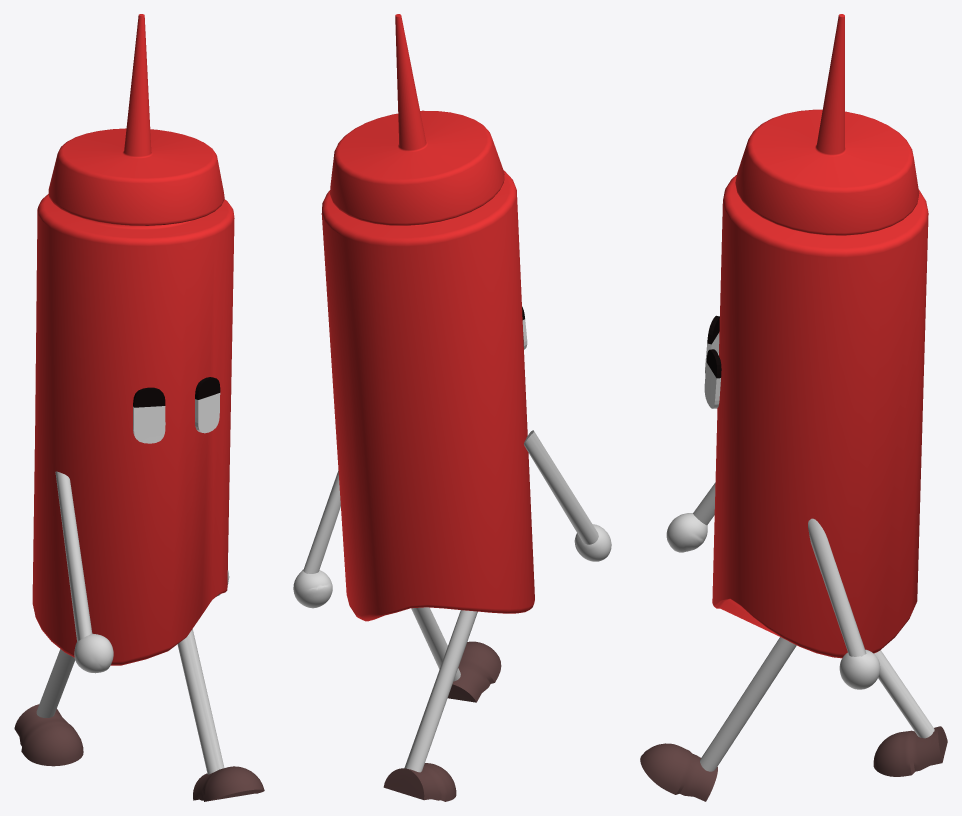
File: kecap merah jalan.fbx
The picture shows the model from 3 angles, left to right: view 1: azimuth 30°, elevation 25°; view 2: azimuth 150°, elevation 25°; view 3: azimuth 270°, elevation 25°; orthographic projection. The views are drawn at different scales.
Visible parts, largest first — view 1: Cylinder.015, Plane.001, Sphere.015, Cylinder.017, Cylinder.016, Sphere.014, Sphere.013, Cylinder.018; view 2: Cylinder.015, Cylinder.018, Cylinder.016, Sphere.014, Sphere.015, Cylinder.019, Sphere.012, Cylinder.017, Sphere.013; view 3: Cylinder.015, Sphere.014, Cylinder.017, Sphere.015, Cylinder.019, Cylinder.018, Plane.001, Sphere.013, Sphere.012.
Boxes of the visible parts, <box> form: Cylinder.015: <box>32,14,234,665</box>; Plane.001: <box>133,377,220,443</box>; Sphere.015: <box>14,704,83,766</box>; Cylinder.017: <box>177,629,224,774</box>; Cylinder.016: <box>55,471,92,641</box>; Sphere.014: <box>193,766,264,801</box>; Sphere.013: <box>74,633,113,673</box>; Cylinder.018: <box>36,649,75,717</box>; Cylinder.015: <box>321,14,534,621</box>; Cylinder.018: <box>404,610,477,772</box>; Cylinder.016: <box>524,430,598,544</box>; Sphere.014: <box>448,641,501,702</box>; Sphere.015: <box>383,763,456,801</box>; Cylinder.019: <box>303,470,340,573</box>; Sphere.012: <box>293,569,332,608</box>; Cylinder.017: <box>411,607,460,681</box>; Sphere.013: <box>574,524,611,561</box>; Cylinder.015: <box>712,14,928,658</box>; Sphere.014: <box>640,743,717,801</box>; Cylinder.017: <box>700,637,796,771</box>; Sphere.015: <box>873,726,947,776</box>; Cylinder.019: <box>808,518,866,656</box>; Cylinder.018: <box>874,650,934,738</box>; Plane.001: <box>704,315,721,408</box>; Sphere.013: <box>666,513,707,552</box>; Sphere.012: <box>839,649,880,689</box>.
Size of the model in its own units: 45.18 by 139 by 49.69.
